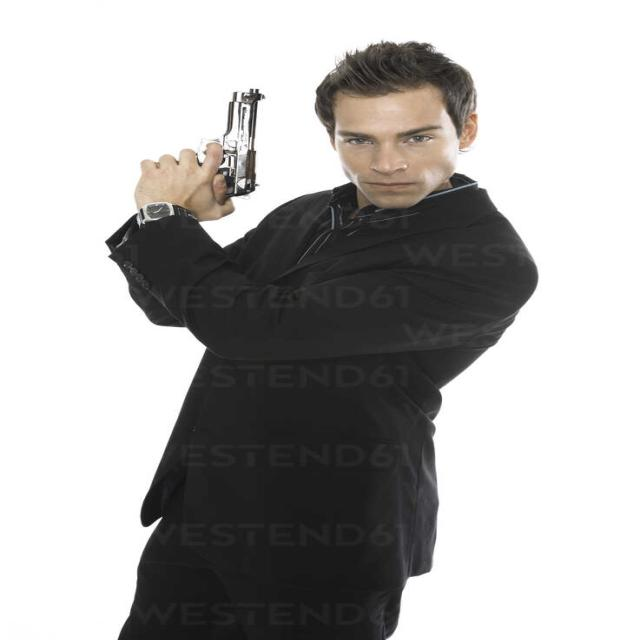HandGun: (217, 89, 266, 200)
